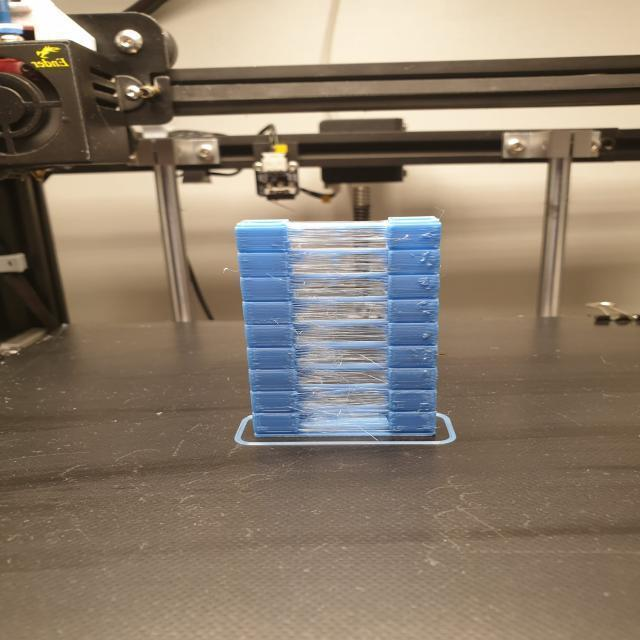stringing: (294, 223, 388, 246), (292, 256, 387, 270), (298, 279, 387, 293), (300, 328, 390, 340), (300, 304, 386, 316), (301, 370, 387, 382), (298, 352, 386, 362), (303, 394, 386, 404)
